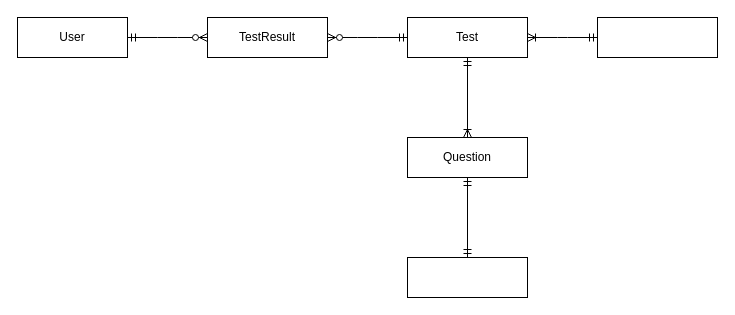
This 735x315 diagram has some shape labels left out. Each missing label, with the box of its shape:
Answer: (406, 256, 528, 298)
Category: (596, 16, 718, 58)
